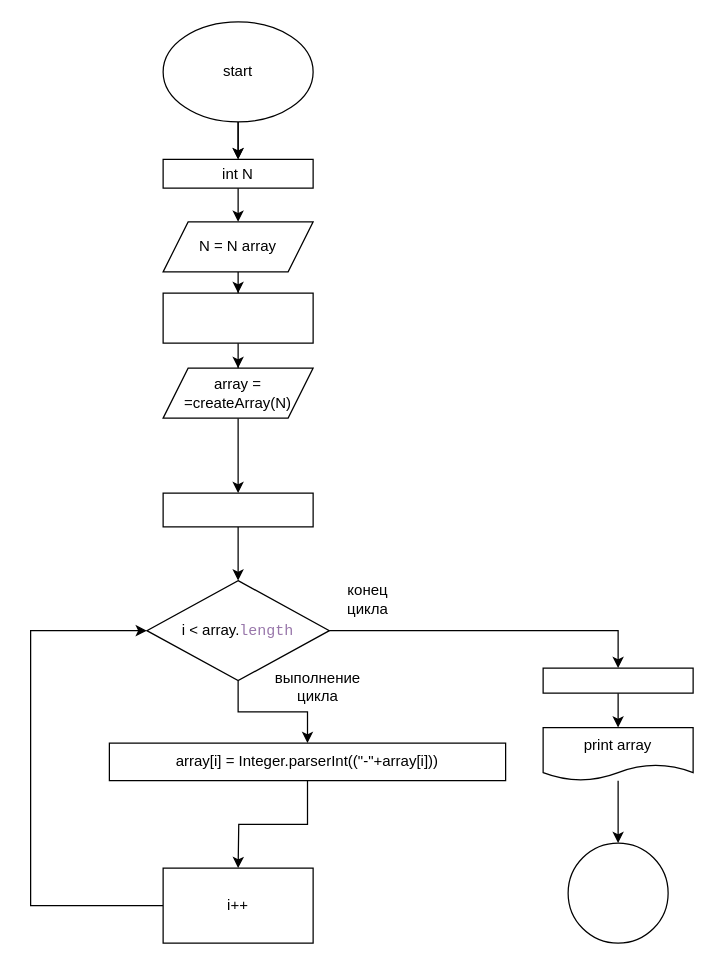
The diagram is 715 pixels wide and 965 high, and some of its shapes have lost their labels. Each missing label, with the centre of its shape:
end: (617,892)
i = 0: (237,509)
int[] array: (237,317)
return array: (617,680)
